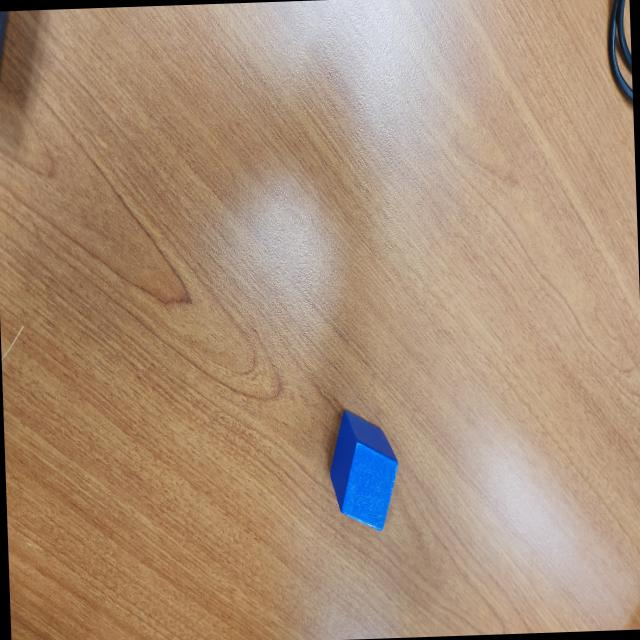blue: (324, 407, 400, 532)
